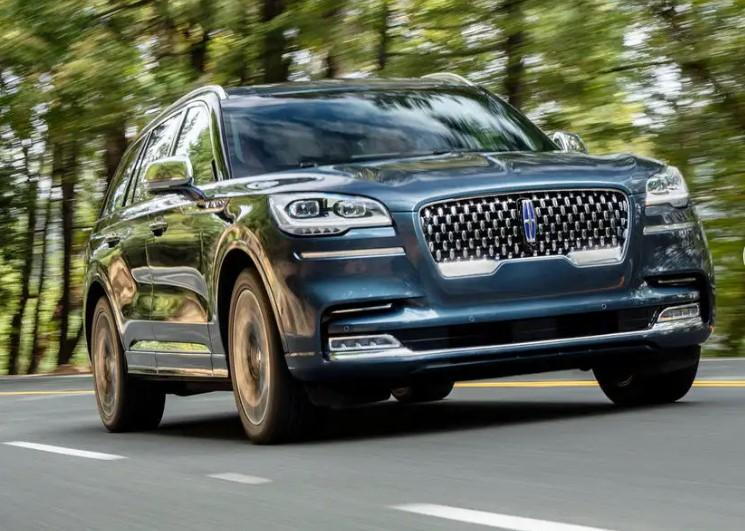lincoln: (509, 189, 548, 256)
